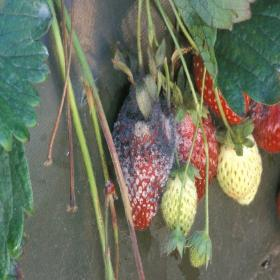Gray Mold: (112, 85, 178, 230), (173, 109, 219, 203)
